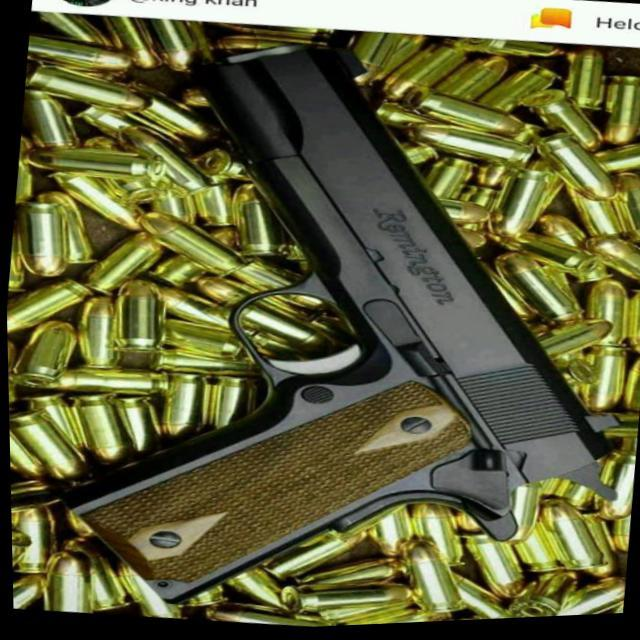weapon: (31, 2, 640, 639)
